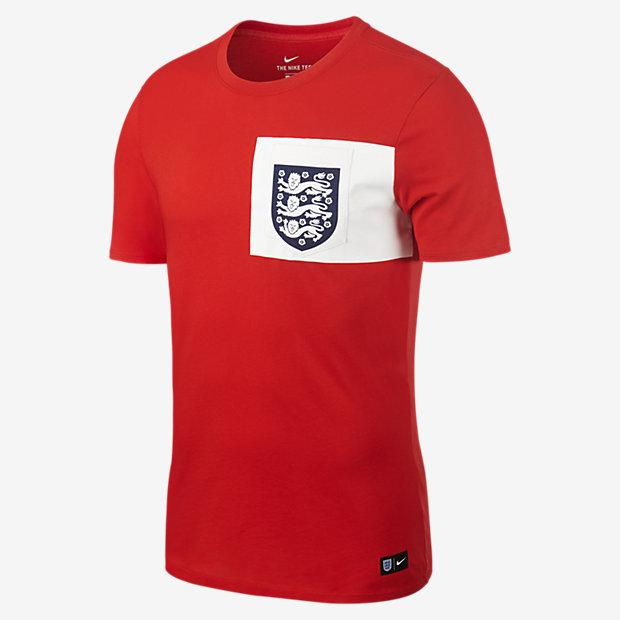teeshirt: (69, 9, 526, 611)
